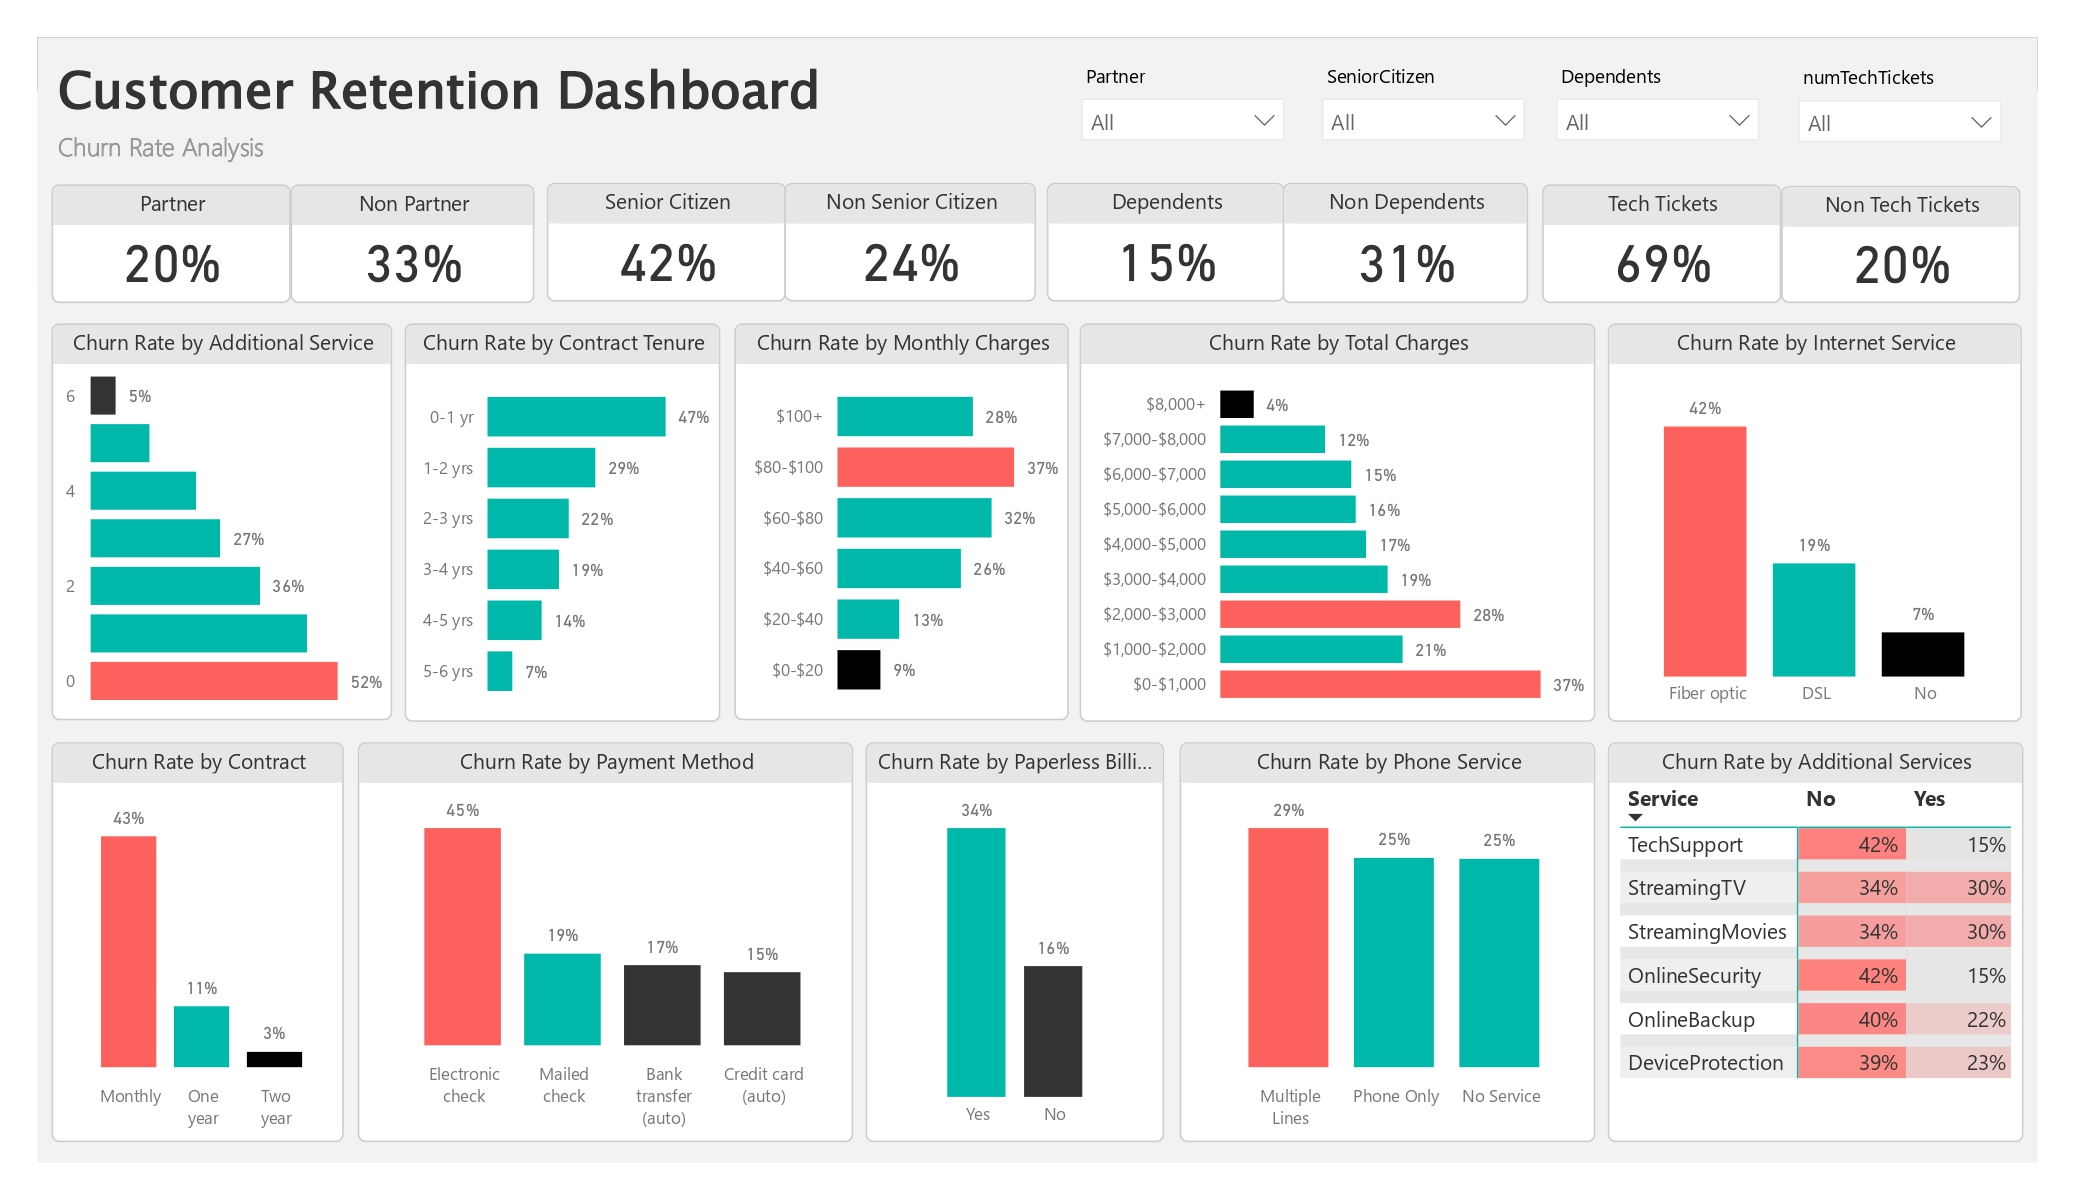

The dashboard page shown, as its layout file describes it:
{"tool":"powerbi","page":{"name":"Churn Rate Analysis","canvas":[1280,720],"ordinal":1},"visuals":[{"type":"clusteredBarChart","title":"Churn Rate by Additional Service","fields":{"Category":["01 Churn-Dataset.Additional Service Count"],"Y":["01 Churn-Dataset.Churn Rate"]},"box":[9.1,182.7,218.2,254.5],"z":0},{"type":"card","title":"Partner","fields":{"Values":["01 Churn-Dataset.Partner Churn Rate"]},"box":[9.2,93.8,153.1,76.2],"z":1000},{"type":"clusteredColumnChart","title":"Churn Rate by Internet Service","fields":{"Category":["01 Churn-Dataset.InternetService"],"Y":["01 Churn-Dataset.Churn Rate"]},"box":[1005,183,265,255],"z":2000},{"type":"clusteredBarChart","title":"Churn Rate by Contract Tenure","fields":{"Category":["01 Churn-Dataset.tenure (groups)"],"Y":["01 Churn-Dataset.Churn Rate"]},"box":[235.4,183.1,201.5,254.6],"z":3000},{"type":"clusteredColumnChart","title":"Churn Rate by Payment Method","fields":{"Category":["01 Churn-Dataset.PaymentMethod"],"Y":["01 Churn-Dataset.Churn Rate"]},"box":[205.5,450.9,316.4,256.4],"z":4000},{"type":"columnChart","title":"Churn Rate by Contract","fields":{"Category":["01 Churn-Dataset.Contract"],"Y":["01 Churn-Dataset.Churn Rate"]},"box":[9,451,187,256],"z":5000},{"type":"clusteredColumnChart","title":"Churn Rate by Phone Service","fields":{"Category":["01 Churn-Dataset.Phone Category"],"Y":["01 Churn-Dataset.Churn Rate"]},"box":[730.8,450.8,266.2,256.2],"z":6000},{"type":"pivotTable","title":"Churn Rate by Additional Services","fields":{"Rows":["Additional Services.Service"],"Values":["01 Churn-Dataset.Service Churn Rate"],"Columns":["Additional Services.Status"]},"box":[1005.4,450.8,265.4,256.2],"z":7000},{"type":"clusteredColumnChart","title":"Churn Rate by Paperless Billing","fields":{"Category":["01 Churn-Dataset.PaperlessBilling"],"Y":["01 Churn-Dataset.Churn Rate"]},"box":[530,451,191,256],"z":8000},{"type":"card","title":"Senior Citizen","fields":{"Values":["01 Churn-Dataset.Senior Citizen Churn Rate"]},"box":[325.6,93.2,153,76],"z":9000},{"type":"clusteredBarChart","title":"Churn Rate by Monthly Charges","fields":{"Y":["01 Churn-Dataset.Churn Rate"],"Category":["01 Churn-Dataset.Monthly Charge Group"]},"box":[445.7,182.9,214.3,254.3],"z":10000},{"type":"clusteredBarChart","title":"Churn Rate by Total Charges","fields":{"Y":["01 Churn-Dataset.Churn Rate"],"Category":["01 Churn-Dataset.Total Charges Group"]},"box":[667,183,330,255],"z":11000},{"type":"slicer","fields":{"Values":["01 Churn-Dataset.Partner"]},"box":[657.8,11.2,150,70],"z":12000},{"type":"slicer","fields":{"Values":["01 Churn-Dataset.SeniorCitizen"]},"box":[811.8,11.2,150,70],"z":13000},{"type":"slicer","fields":{"Values":["01 Churn-Dataset.Dependents"]},"box":[961.8,11.2,150,70],"z":14000},{"type":"textbox","title":"Customer Retention Analysis","box":[8.3,5,513.3,93.3],"z":15000},{"type":"card","title":"Non Partner","fields":{"Values":["Customer Churn Dataset.Non Partner Churn Rate"]},"box":[161.6,93.7,156.3,76.3],"z":16000},{"type":"card","title":"Non Senior Citizen","fields":{"Values":["Customer Churn Dataset.Non Senior Citizen Churn Rate"]},"box":[477.7,92.6,161,76.7],"z":17000},{"type":"card","title":"Dependents","fields":{"Values":["Customer Churn Dataset.Dependents Churn Rate"]},"box":[645.5,92.9,152.2,76.1],"z":18000},{"type":"card","title":"Non Dependents","fields":{"Values":["Customer Churn Dataset.Non Dependents Churn Rate"]},"box":[796.7,92.9,157.1,76.7],"z":19000},{"type":"card","title":"Tech Tickets","fields":{"Values":["Customer Churn Dataset.TechTickets Churn Rate"]},"box":[962.9,94.3,153.6,75.7],"z":20000},{"type":"card","title":"Non Tech Tickets","fields":{"Values":["Customer Churn Dataset.Non TechTickets Churn Rate"]},"box":[1116,94.5,153,75.5],"z":21000},{"type":"slicer","fields":{"Values":["Customer Churn Dataset.numTechTickets"]},"box":[1117.3,11.5,150,70],"z":22000}]}

Visuals, with their boxes on the page's 1280x720 design canvas (x1, y1, x2, y2). These are canvas units, not pixel positions in the 2075x1200 screenshot, which may show the page scaled, cropped or inside an application window:
"Churn Rate by Additional Service" clusteredBarChart: l=9, t=183, r=227, b=437
"Partner" card: l=9, t=94, r=162, b=170
"Churn Rate by Internet Service" clusteredColumnChart: l=1005, t=183, r=1270, b=438
"Churn Rate by Contract Tenure" clusteredBarChart: l=235, t=183, r=437, b=438
"Churn Rate by Payment Method" clusteredColumnChart: l=206, t=451, r=522, b=707
"Churn Rate by Contract" columnChart: l=9, t=451, r=196, b=707
"Churn Rate by Phone Service" clusteredColumnChart: l=731, t=451, r=997, b=707
"Churn Rate by Additional Services" pivotTable: l=1005, t=451, r=1271, b=707
"Churn Rate by Paperless Billing" clusteredColumnChart: l=530, t=451, r=721, b=707
"Senior Citizen" card: l=326, t=93, r=479, b=169
"Churn Rate by Monthly Charges" clusteredBarChart: l=446, t=183, r=660, b=437
"Churn Rate by Total Charges" clusteredBarChart: l=667, t=183, r=997, b=438
slicer - 01 Churn-Dataset.Partner: l=658, t=11, r=808, b=81
slicer - 01 Churn-Dataset.SeniorCitizen: l=812, t=11, r=962, b=81
slicer - 01 Churn-Dataset.Dependents: l=962, t=11, r=1112, b=81
"Customer Retention Analysis" textbox: l=8, t=5, r=522, b=98
"Non Partner" card: l=162, t=94, r=318, b=170
"Non Senior Citizen" card: l=478, t=93, r=639, b=169
"Dependents" card: l=646, t=93, r=798, b=169
"Non Dependents" card: l=797, t=93, r=954, b=170
"Tech Tickets" card: l=963, t=94, r=1116, b=170
"Non Tech Tickets" card: l=1116, t=94, r=1269, b=170
slicer - Customer Churn Dataset.numTechTickets: l=1117, t=12, r=1267, b=82
